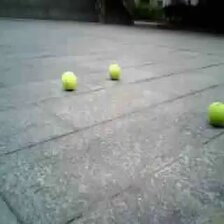tennis: (208, 101, 224, 124), (62, 72, 76, 89), (109, 64, 121, 78)
